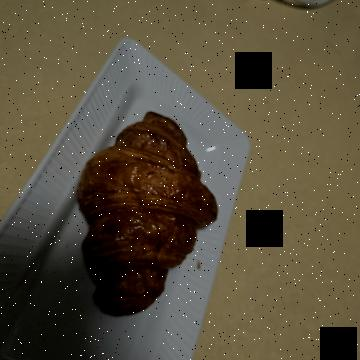croissant: (98, 122, 330, 290)
